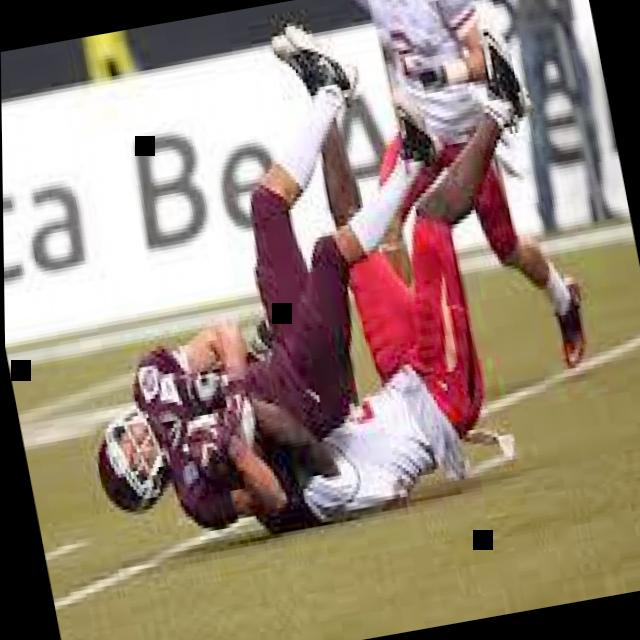Fall-Detected: (24, 0, 476, 568)
